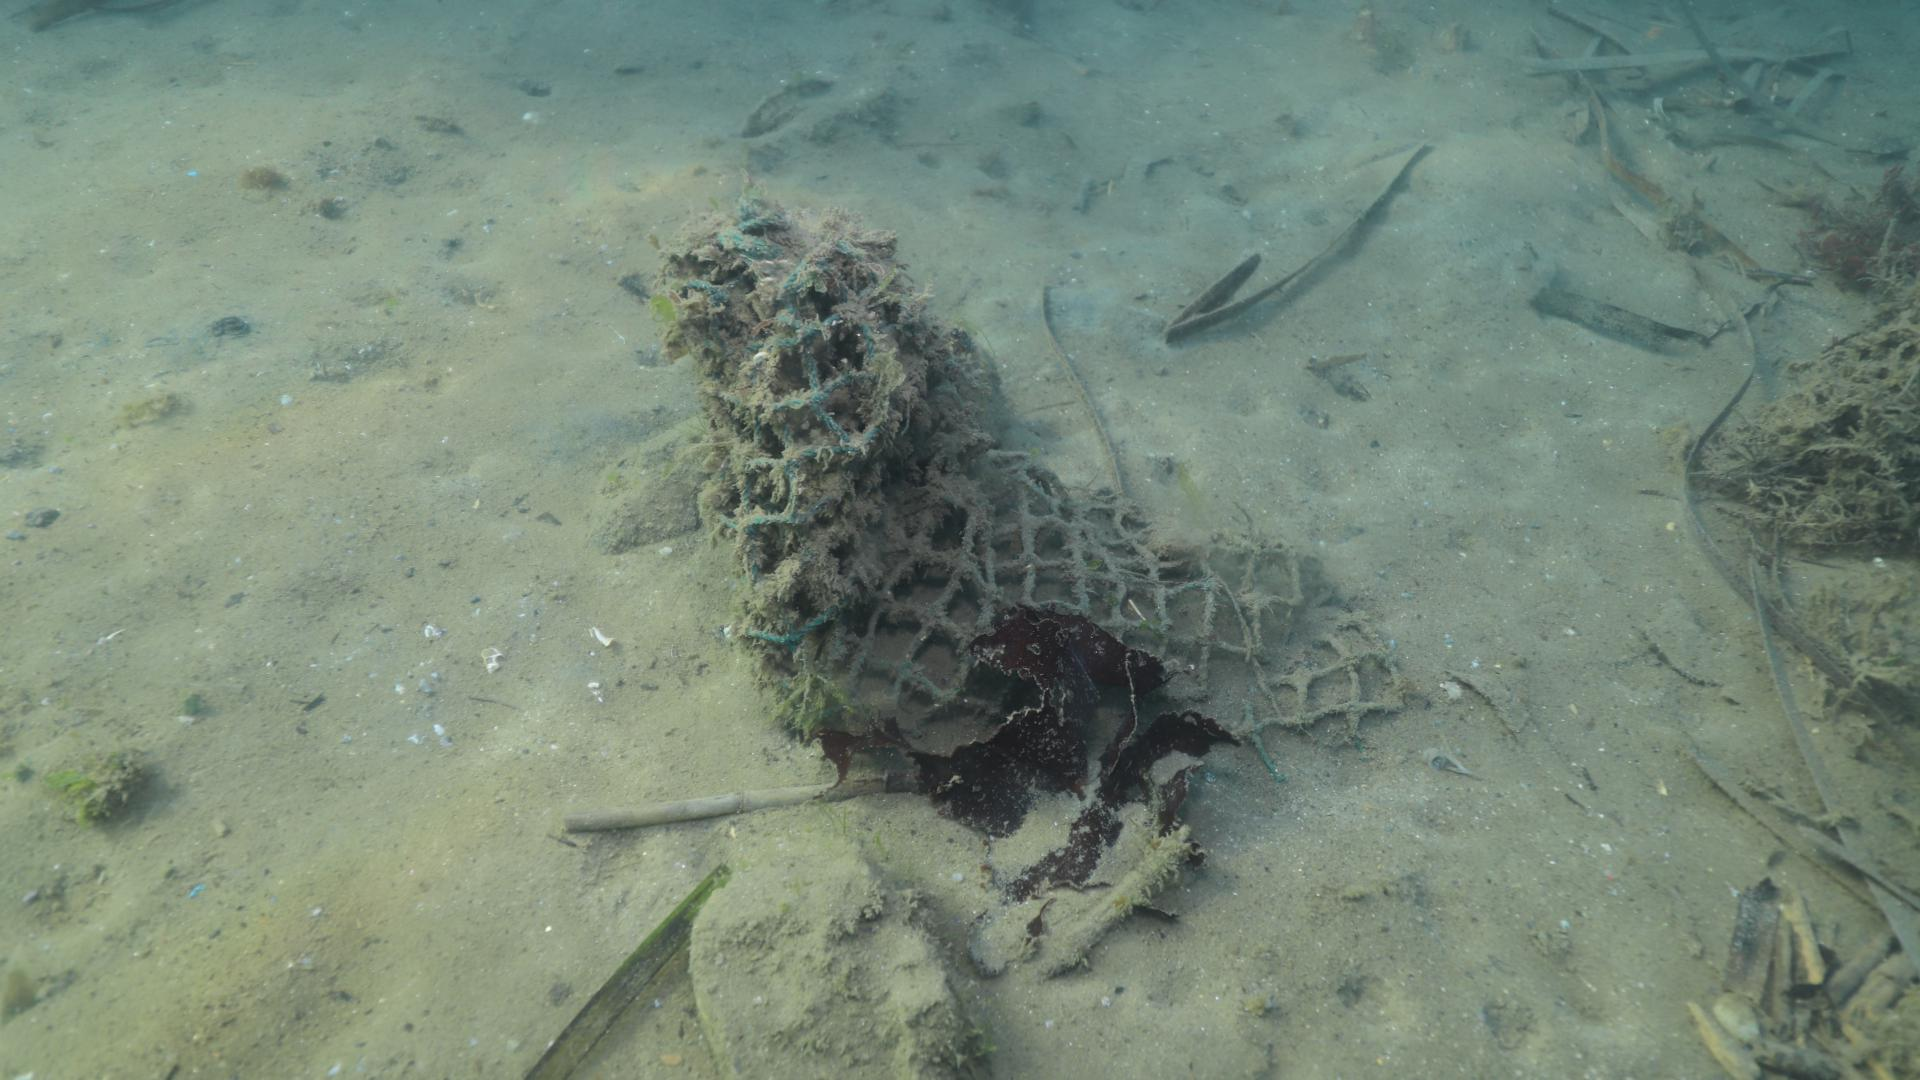fish net: (659, 195, 1407, 779)
